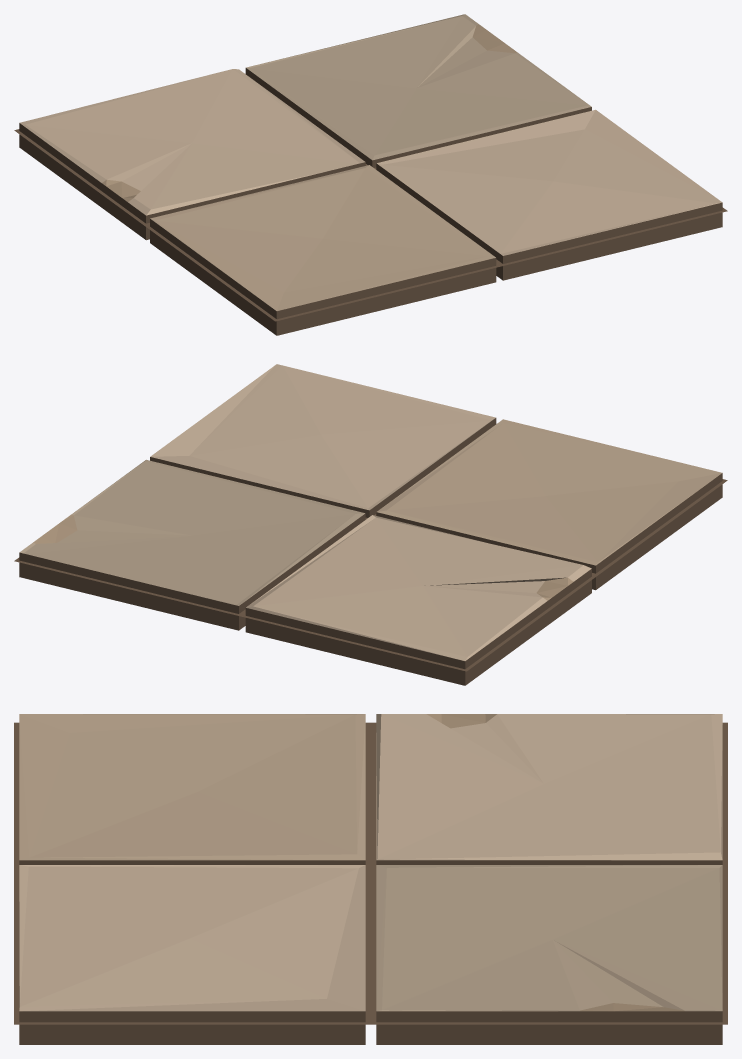
The model's file is SM_Ground_PavingTile_02.fbx.
3 renders of one model, top to bottom at view 1: azimuth 30°, elevation 25°; view 2: azimuth 150°, elevation 25°; view 3: azimuth 270°, elevation 25°, orthographic. The views are drawn at different scales.
Visible parts, largest first — view 1: SM_Ground_PavingTile_02; view 2: SM_Ground_PavingTile_02; view 3: SM_Ground_PavingTile_02.
Part boxes in pixels (x1,y1,x2,y2): SM_Ground_PavingTile_02: [14, 14, 727, 335]; SM_Ground_PavingTile_02: [14, 364, 727, 685]; SM_Ground_PavingTile_02: [14, 714, 727, 1044].
Size of the model in its own units: 1 by 0.0587 by 1.
Materials: 1 (1 with a texture image).
